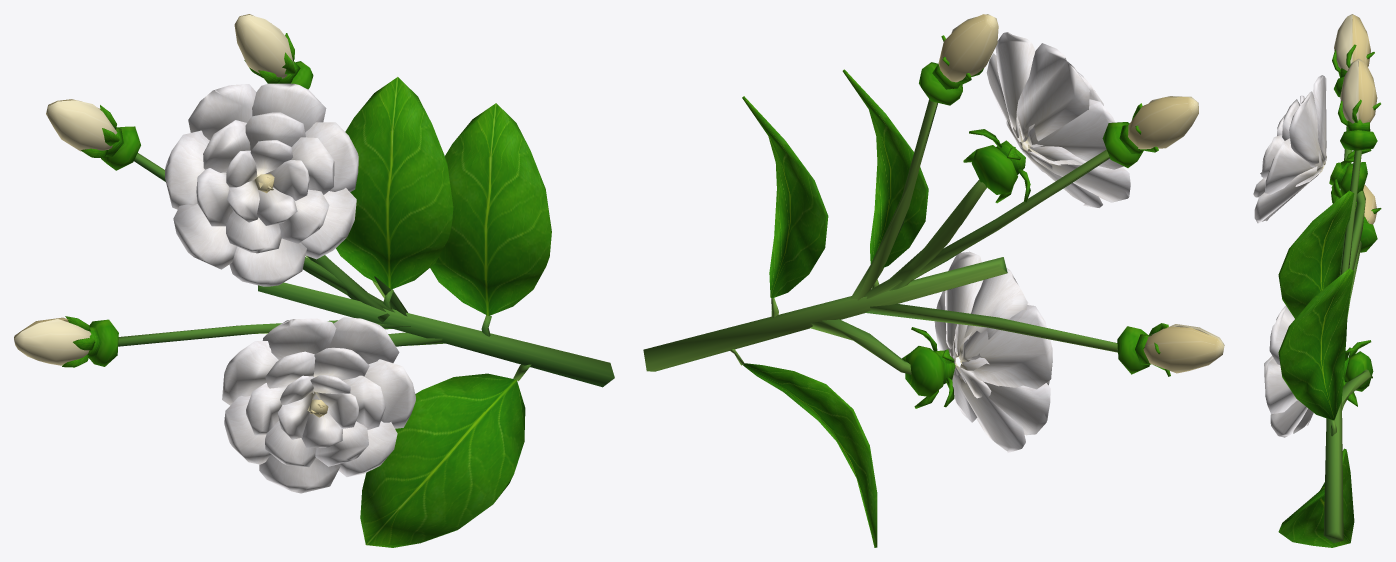
Rendered from NP_Jasmine_Harvest_LOD1.fbx.
The picture shows the model from 3 angles, left to right: view 1: azimuth 30°, elevation 25°; view 2: azimuth 150°, elevation 25°; view 3: azimuth 270°, elevation 25°; orthographic projection. The views are drawn at different scales.
Visible parts, largest first — view 1: NP_Jasmine_Harvest; view 2: NP_Jasmine_Harvest; view 3: NP_Jasmine_Harvest.
Part boxes in pixels (bbox=[...]): NP_Jasmine_Harvest: bbox=[14, 14, 614, 547]; NP_Jasmine_Harvest: bbox=[643, 14, 1224, 547]; NP_Jasmine_Harvest: bbox=[1253, 14, 1381, 547].
Bounding box in the file's own units: 42.6 × 38.7 × 10.26.
